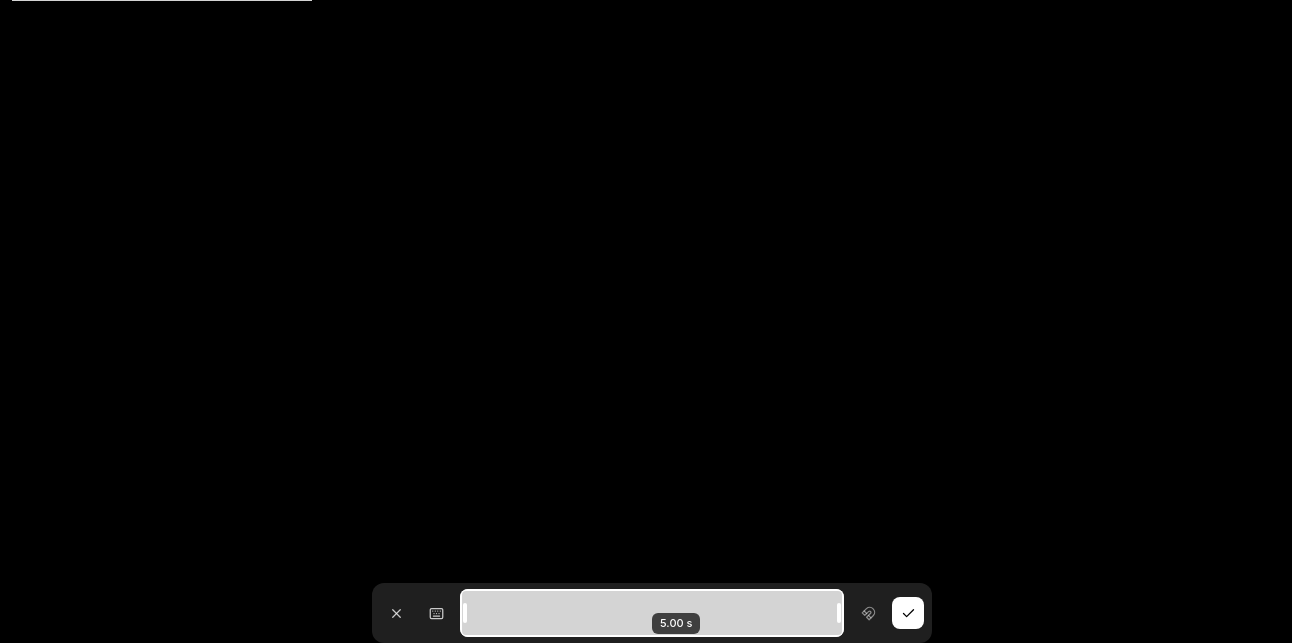
Test: VideoTrimBar 确认流程 › 键盘按钮开合快捷键面板
(page scrolled)
Expected: the text "5.00 s" is shown, x1=652 y1=613 x2=700 y2=634
Click the button titled "快捷键".
click(436, 613)  # box x1=420 y1=597 x2=452 y2=629
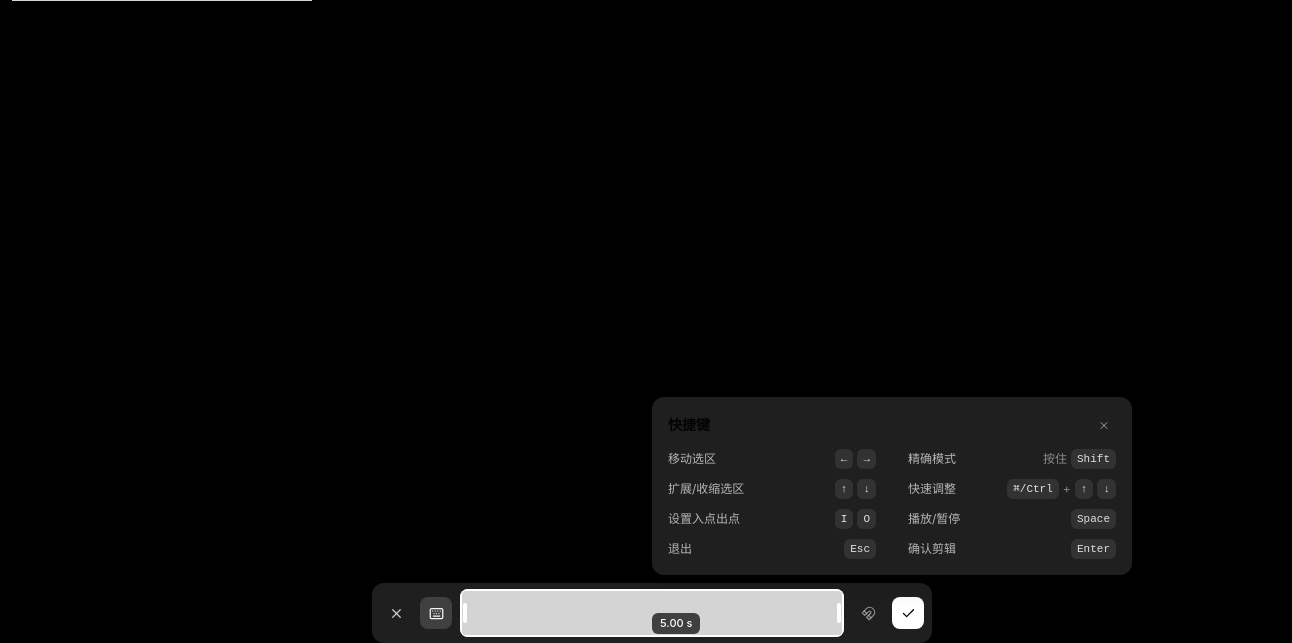
Now the text "移动选区" is shown, box x1=668 y1=451 x2=716 y2=467
Now the text "设置入点出点" is shown, box x1=668 y1=511 x2=740 y2=527
Click the button titled "快捷键".
click(436, 613)  # box x1=420 y1=597 x2=452 y2=629
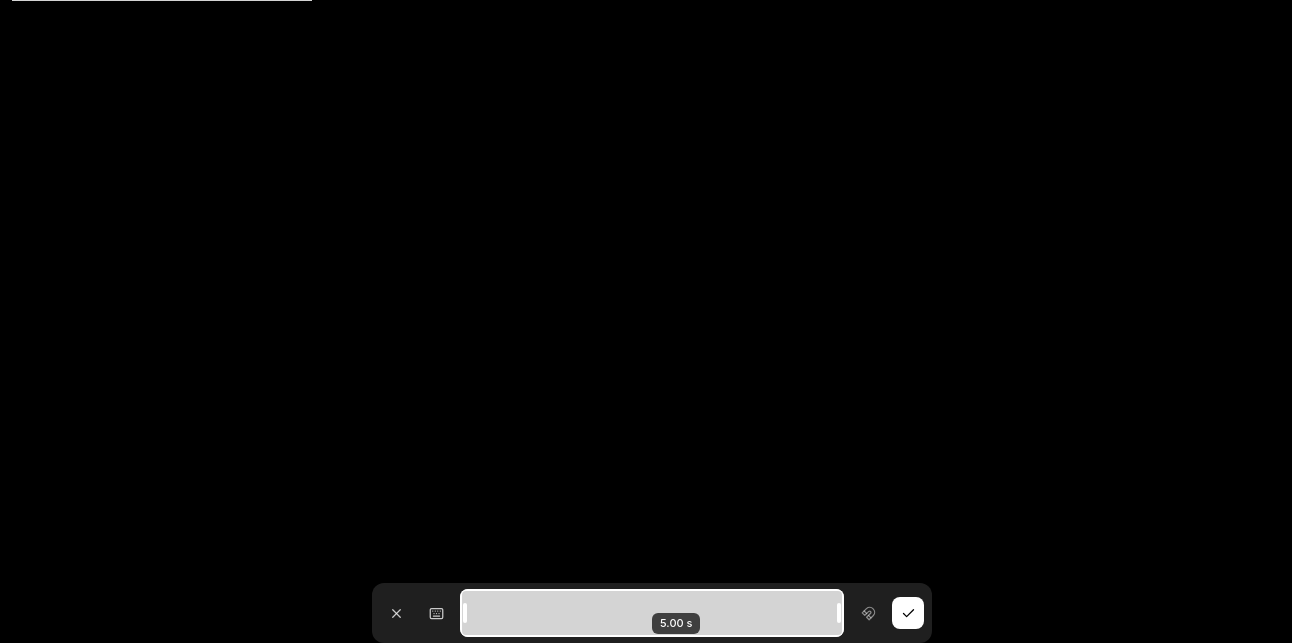
Now the text "移动选区" is gone
